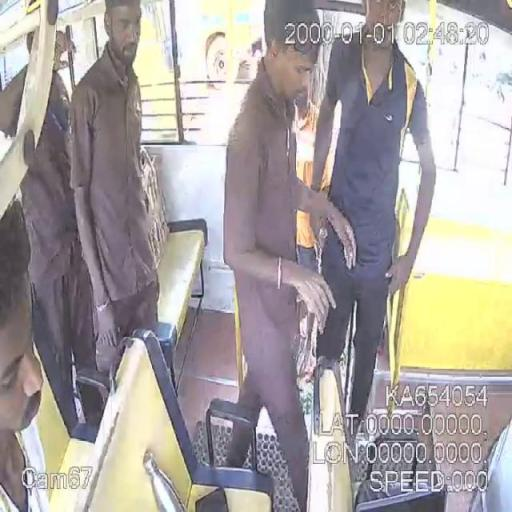persona: (221, 1, 357, 510), (308, 0, 438, 451), (0, 1, 108, 442), (64, 0, 170, 422), (0, 196, 50, 510)
